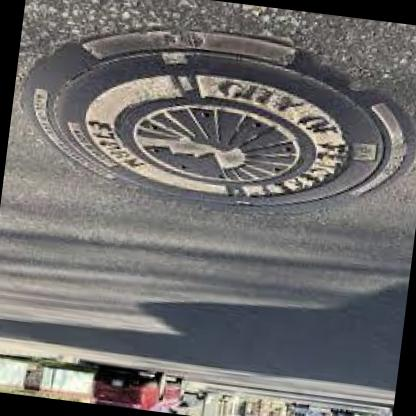manholes: (0, 0, 416, 266)
